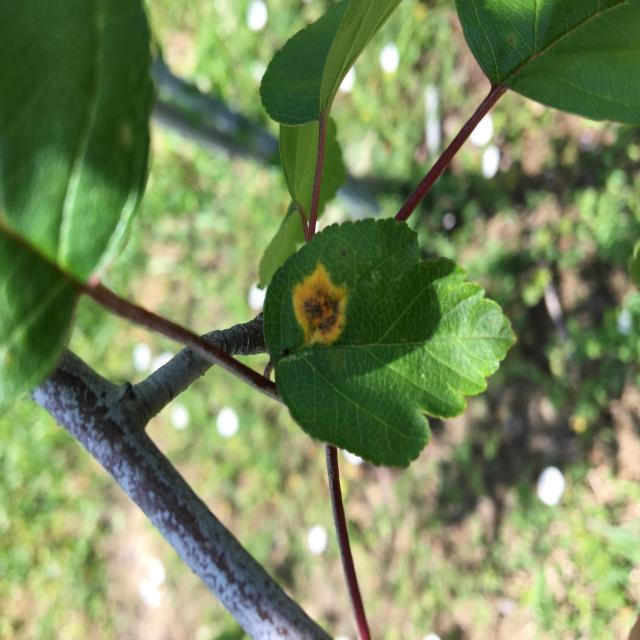Rust: (280, 260, 363, 355)
